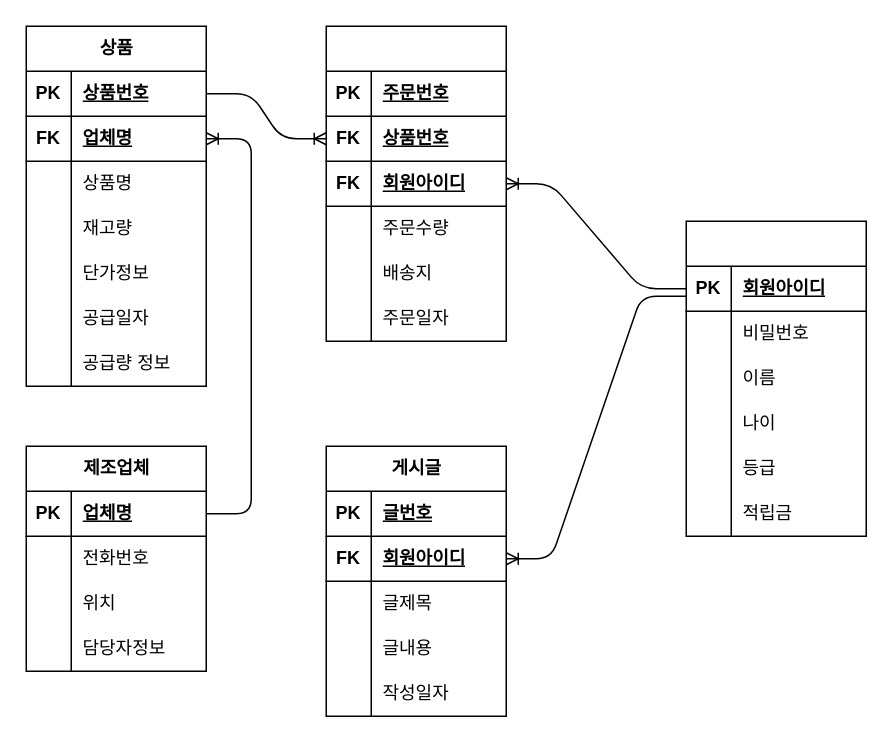
Image size: 893x743. Some labels were removed from this diagram. Each missing label, with the box of its shape:
주문: (325, 25, 506, 341)
회원: (685, 220, 866, 536)
